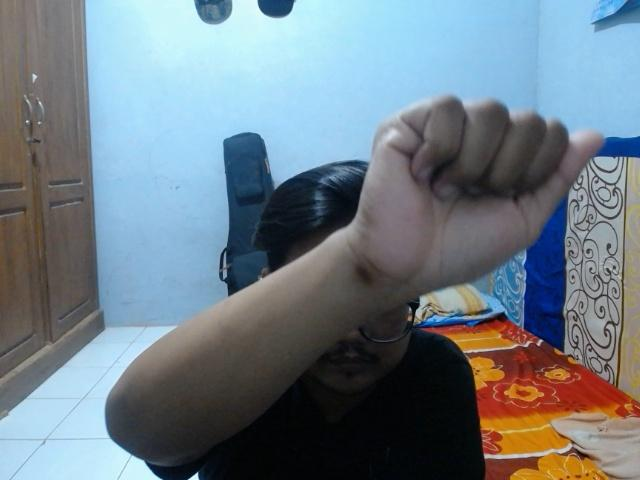Grab: (346, 86, 612, 297)
